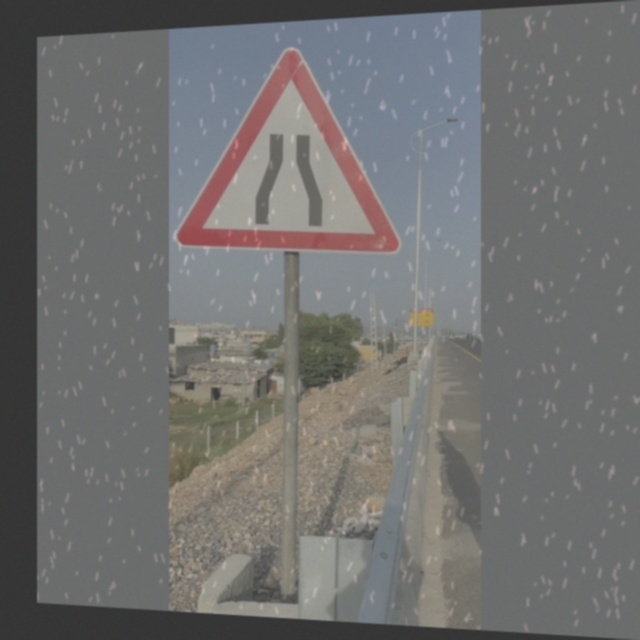Narrow_Road_Ahead: (190, 41, 401, 256)
